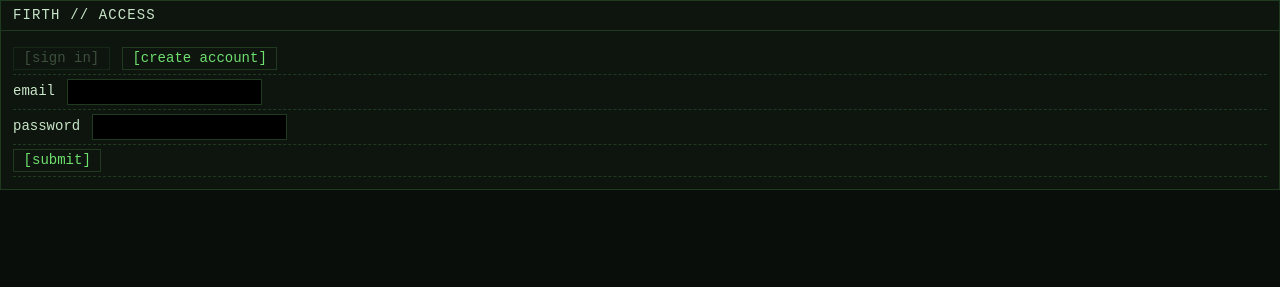
AuthScreen › a failed sign-in renders a terminal error line
This screenshot has width=1280, height=287.
Type "a@b.co" into the field labelled "email" at (164, 92), box x1=67 y1=79 x2=262 y2=105
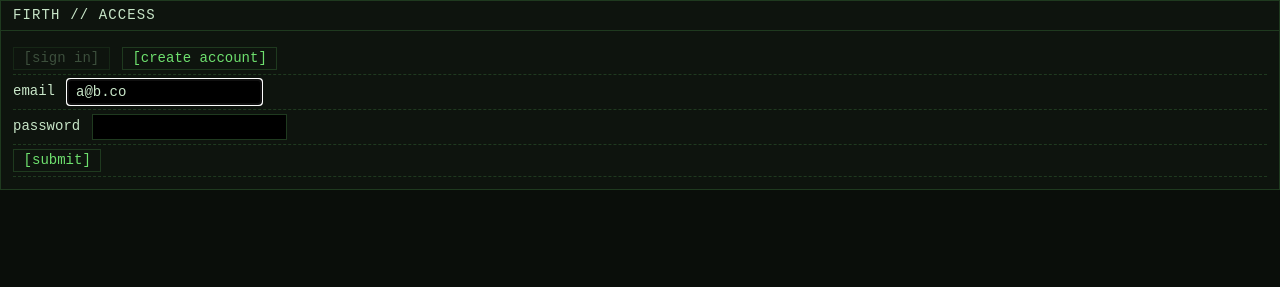
Type "pw" into the password field labelled "password" at (190, 127), box x1=92 y1=114 x2=287 y2=140
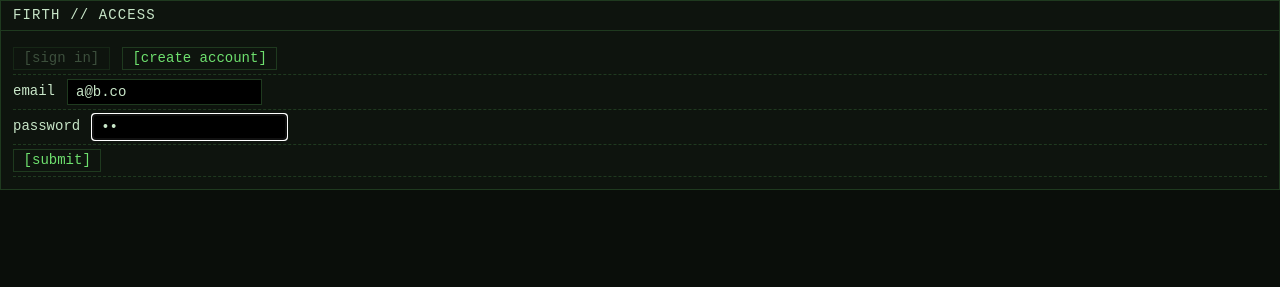
Click the button with test id "auth-submit" at (57, 160), box x1=13 y1=149 x2=101 y2=172
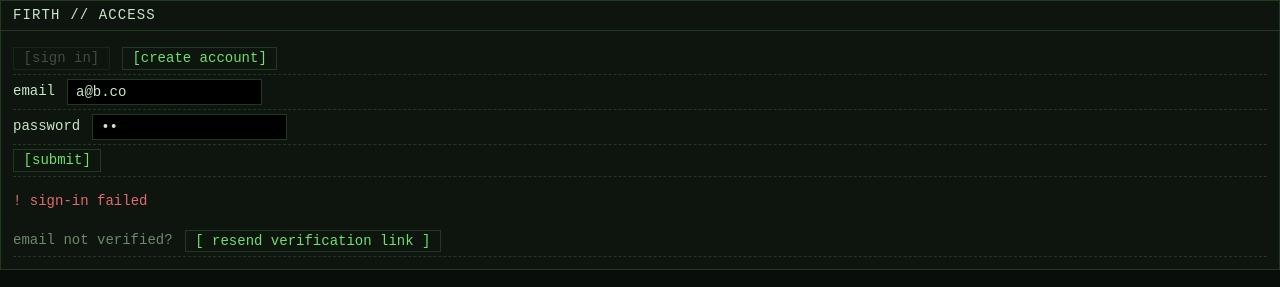
Expected: the text "! sign-in failed" is shown, x1=13 y1=193 x2=147 y2=209
